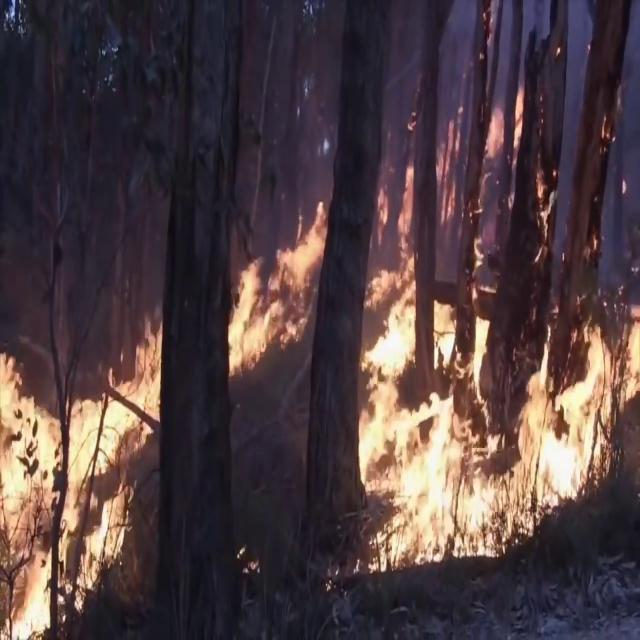Fire: (349, 35, 640, 571), (0, 310, 161, 634), (225, 183, 326, 372)
